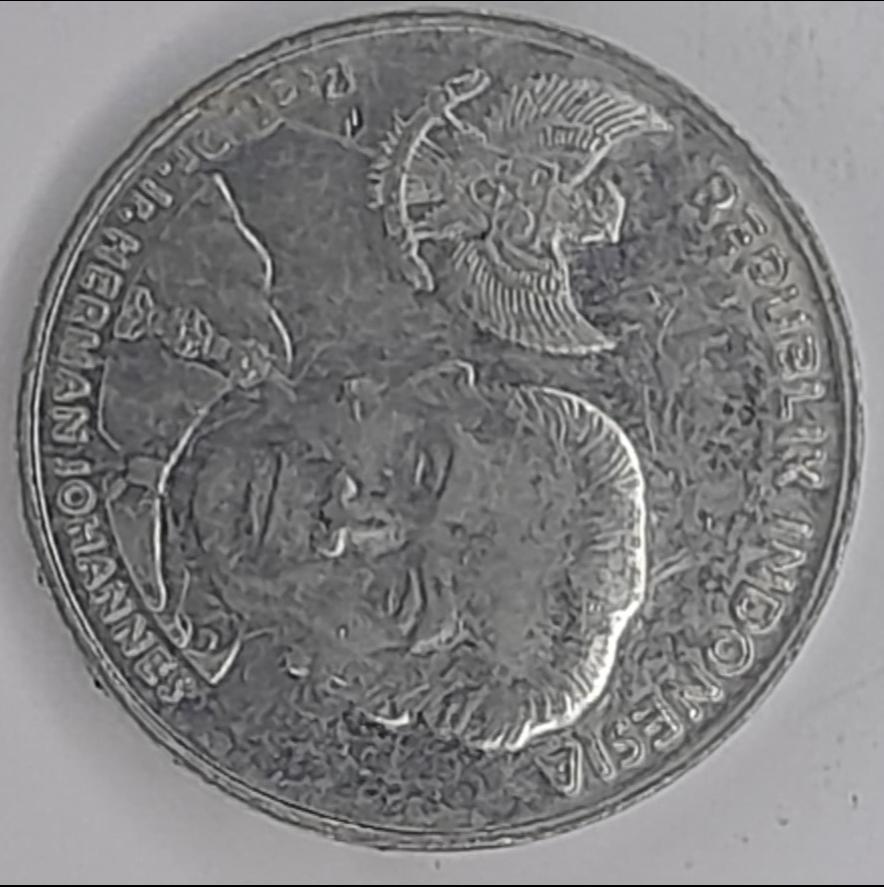coin_100_e2016: (9, 1, 869, 855)
